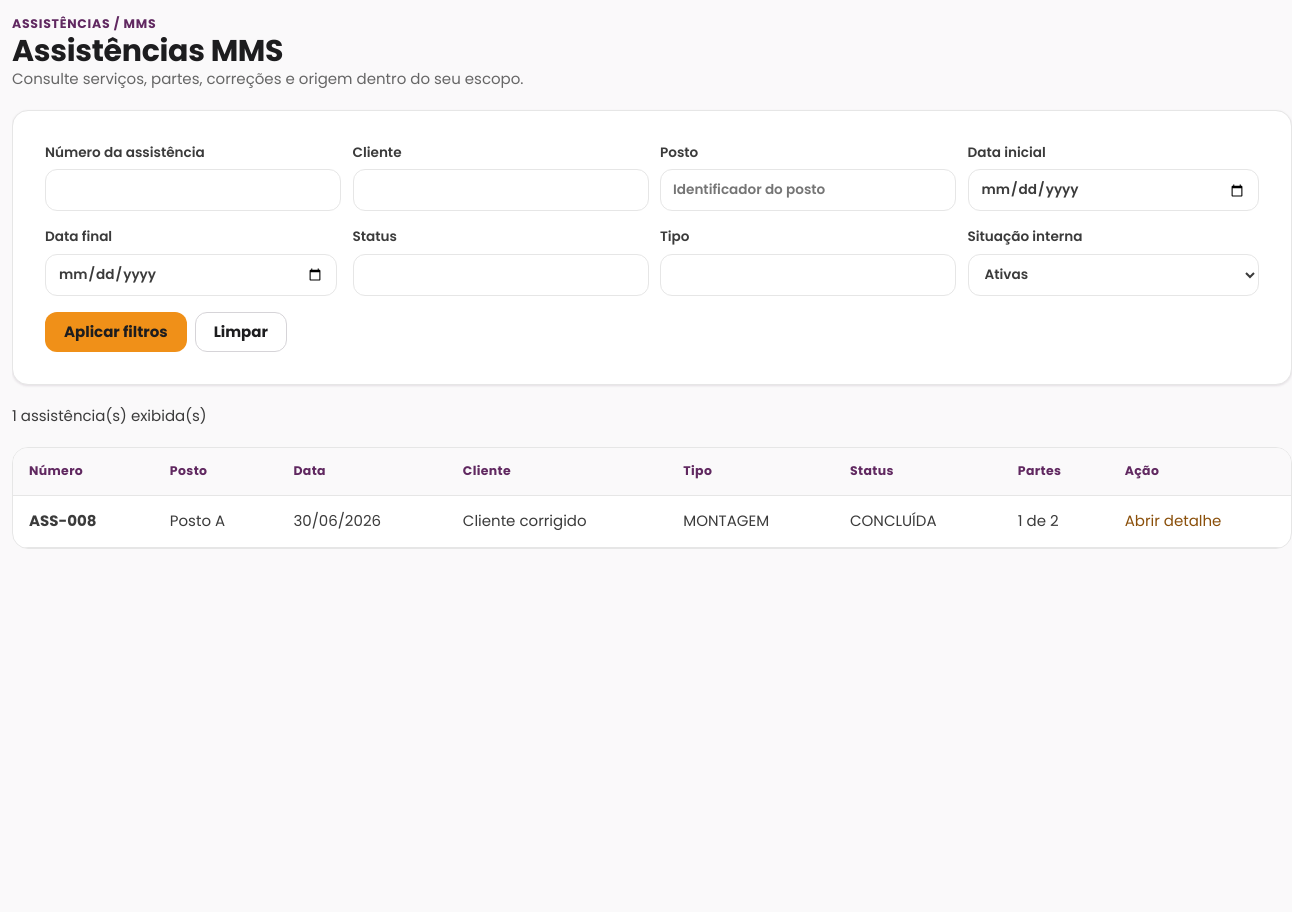
assistance list › removes stale rows when a filtered reload is denied
Expected: the text "ASS-008" is shown, [29,510,96,531]
In the field labelled "Número da assistência": coordinates (193, 190) [45,169,341,211], type "restrito"
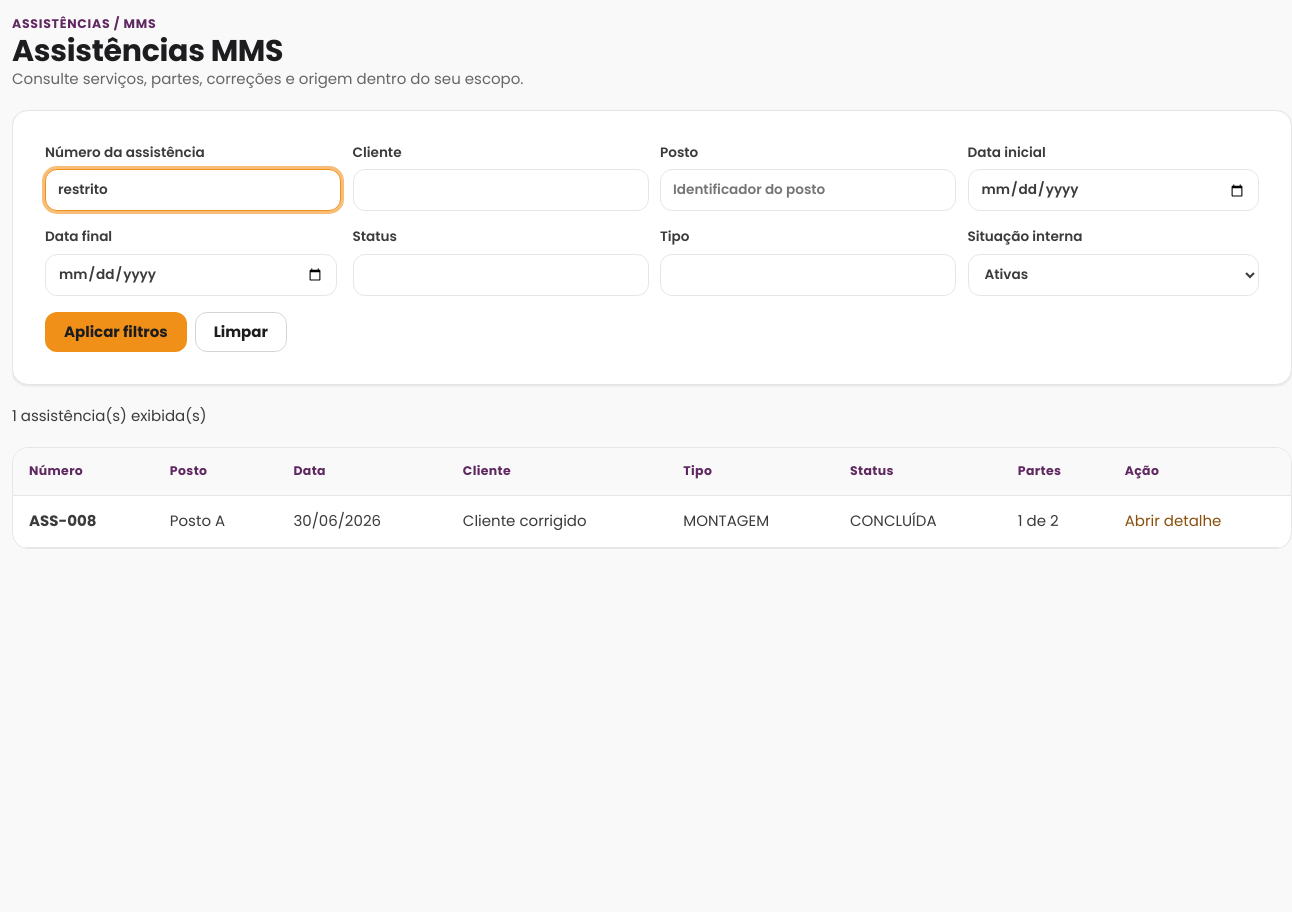
Click the button "Aplicar filtros": coordinates (116, 332) [45,312,187,352]
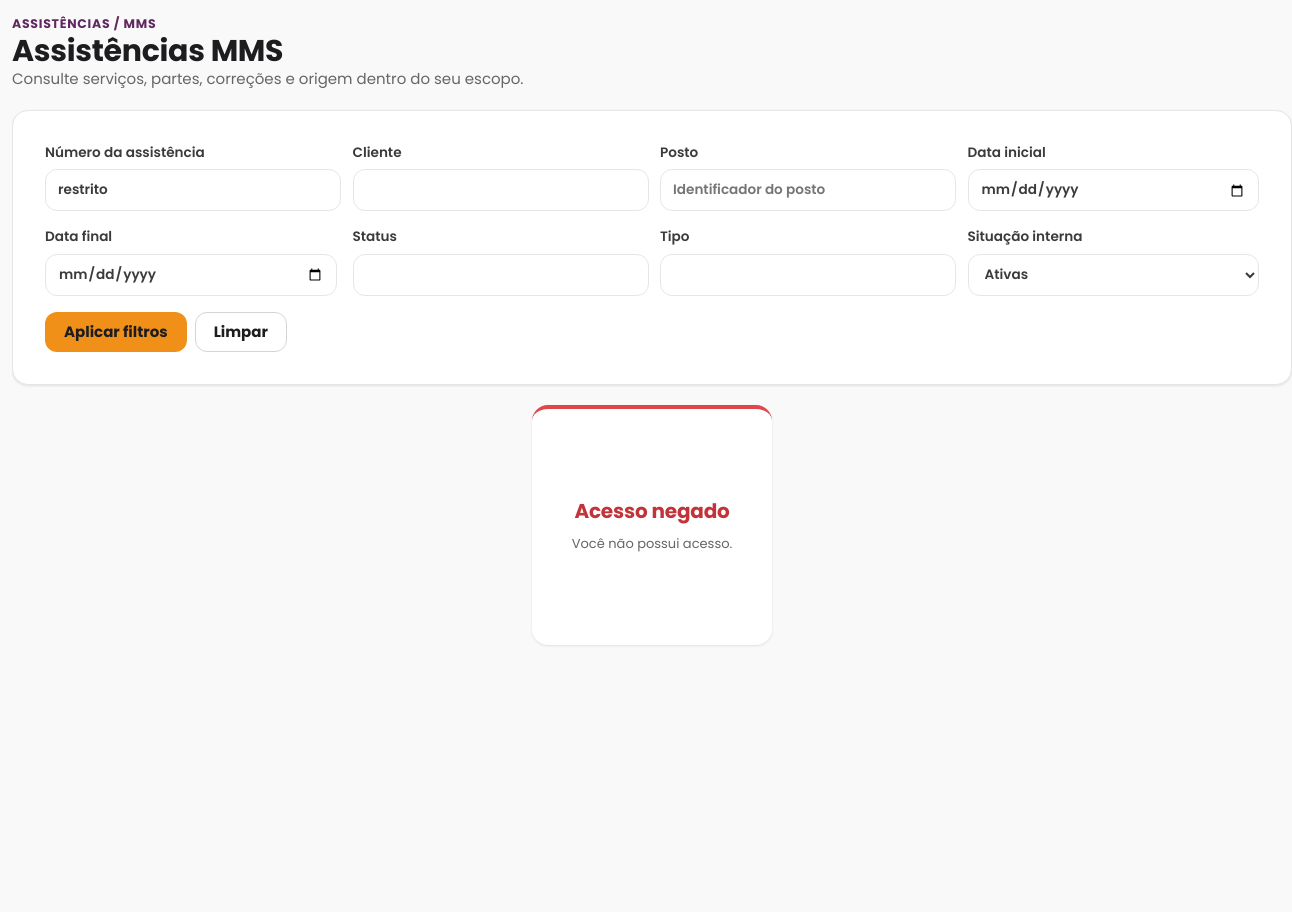
Expected: the heading "Acesso negado" is shown, [574,500,730,522]
Expected: the text "ASS-008" is gone
